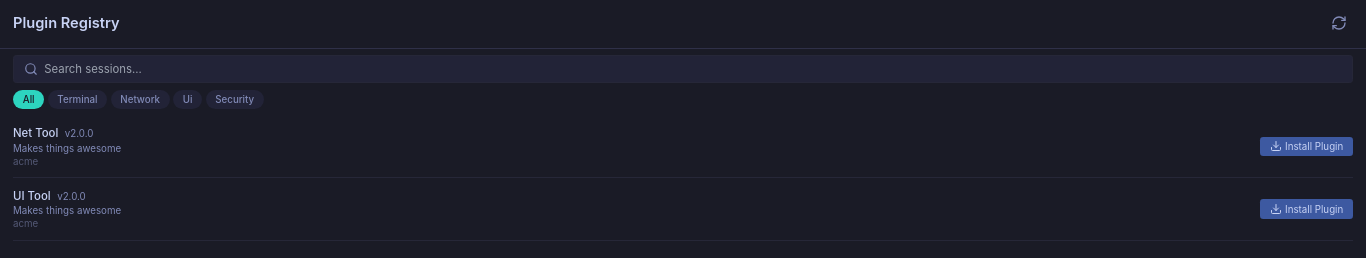
PluginRegistry › filters entries by category
expect the text "Net Tool" is shown: met, box [13,125,58,142]
Click the button "Network" at (140,99), box [110,90,170,109]
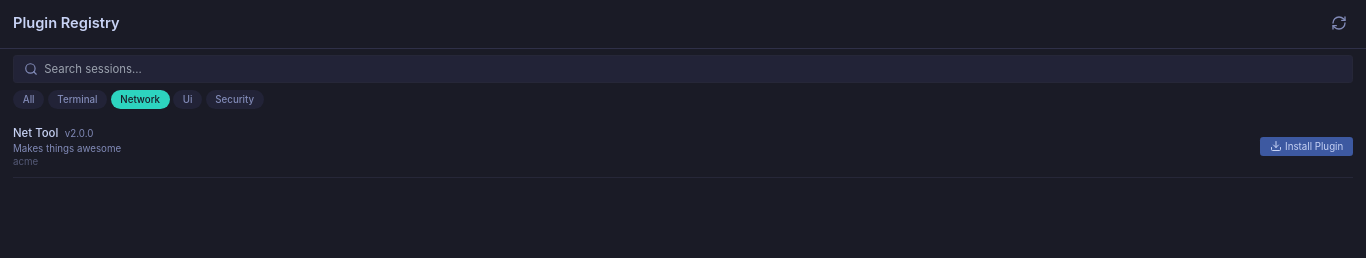
expect the text "Net Tool" is shown: met, box [13,125,58,142]
expect the text "UI Tool" is gone: met
